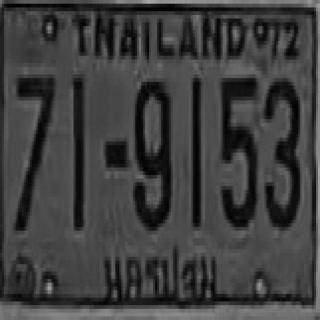N01: (72, 74, 84, 227), (191, 76, 201, 225)
N03: (262, 76, 298, 225)
N05: (219, 74, 256, 227)
N07: (14, 71, 54, 227)
N09: (133, 78, 171, 227)
P28: (98, 240, 225, 317)
